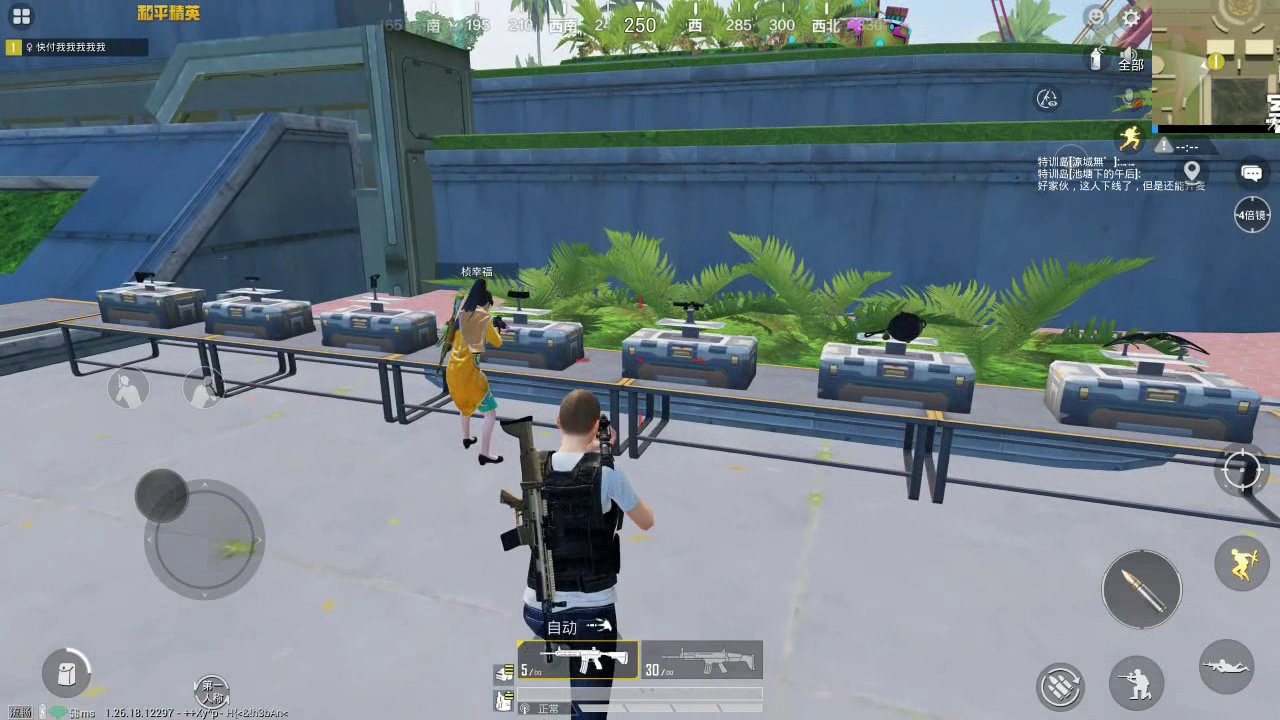enemy: (440, 279, 505, 466)
